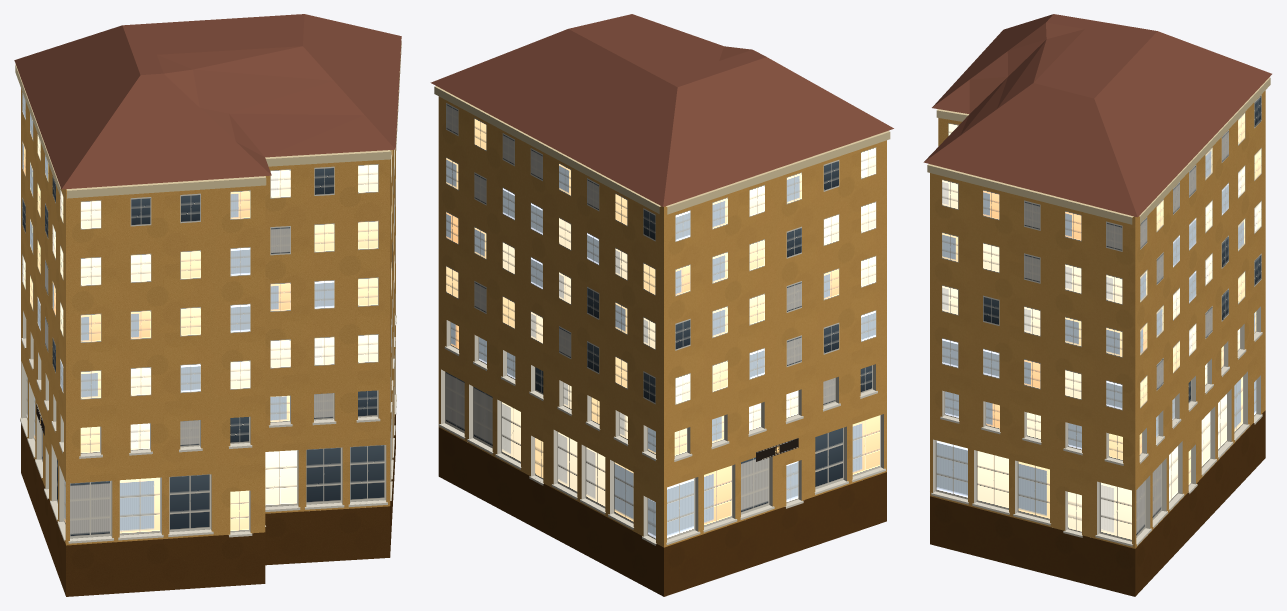
File: langB_l104.glb
The picture shows the model from 3 angles, left to right: view 1: azimuth 30°, elevation 25°; view 2: azimuth 150°, elevation 25°; view 3: azimuth 270°, elevation 25°; orthographic projection. The views are drawn at different scales.
Visible parts, largest first — view 1: langB_l104; view 2: langB_l104; view 3: langB_l104.
Boxes of the visible parts, bbox=[...] form: langB_l104: bbox=[14, 14, 401, 596]; langB_l104: bbox=[430, 14, 893, 596]; langB_l104: bbox=[923, 14, 1271, 596].
Bounding box in the file's own units: 25.15 × 27.91 × 19.76.
Materials: 3 (3 with a texture image).
